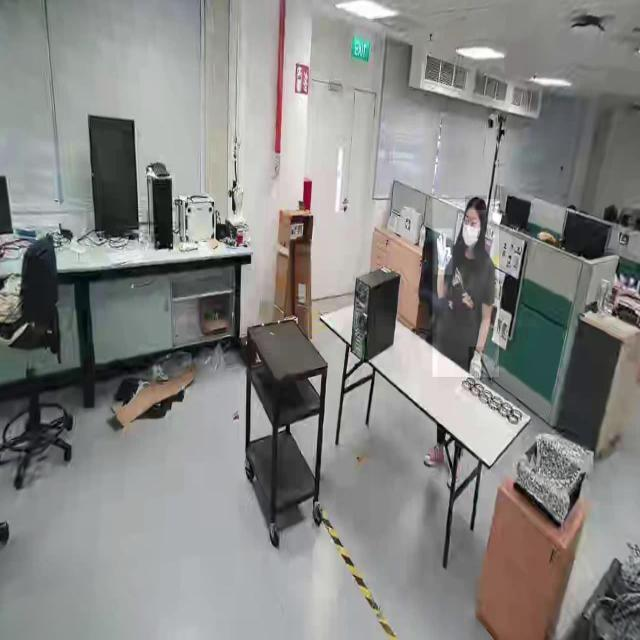face_mask: (461, 210, 484, 250)
hand_glove: (434, 228, 452, 274), (468, 346, 484, 386)
head_nohelmet: (465, 196, 487, 210)
person: (432, 199, 500, 378)
shoes: (424, 443, 448, 469)
